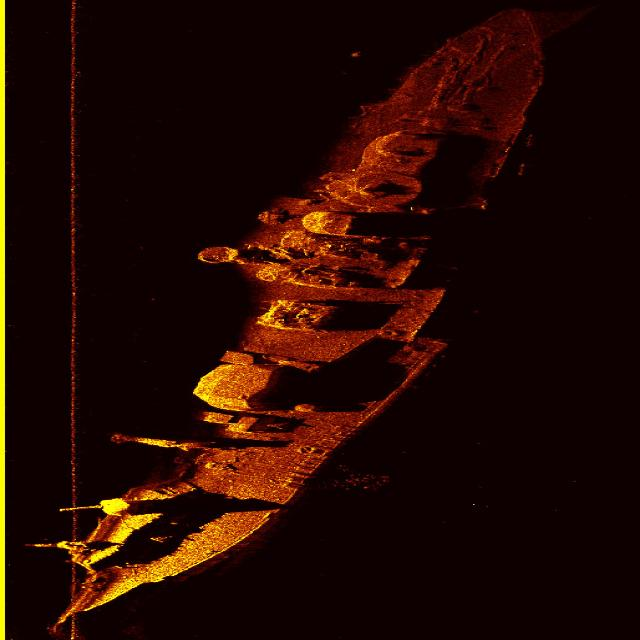ship: (59, 8, 546, 625)
